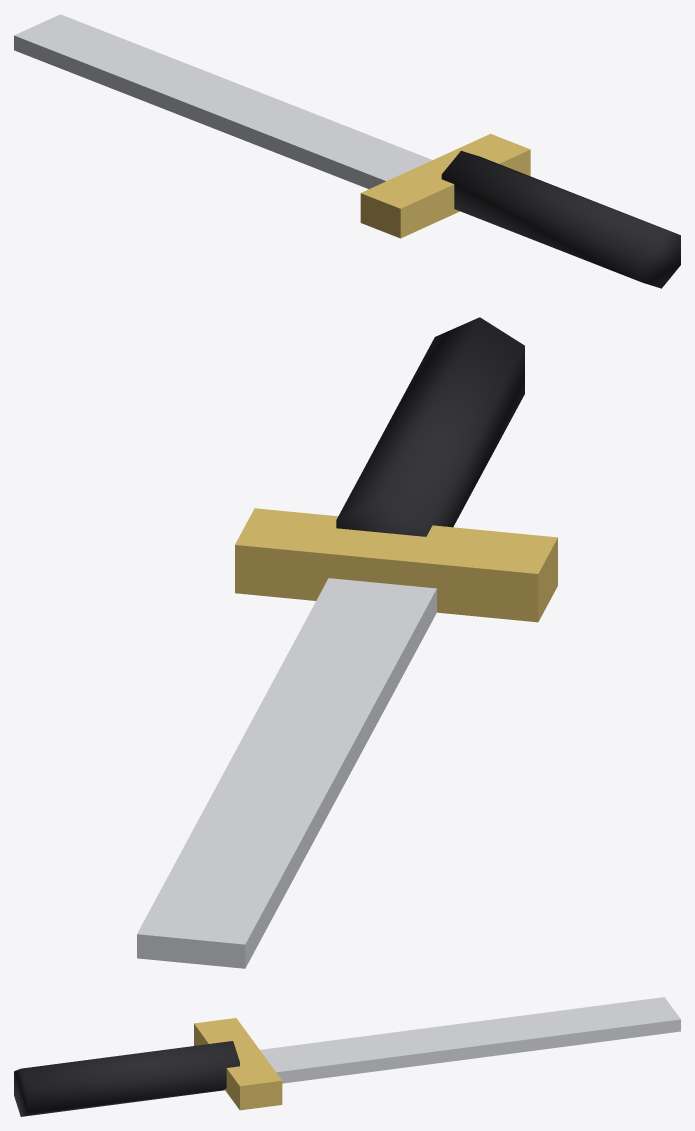
Rendered from occult_tool_ritual_dagger.glb.
3 renders of one model, top to bottom at view 1: azimuth 30°, elevation 25°; view 2: azimuth 150°, elevation 25°; view 3: azimuth 270°, elevation 25°, orthographic. The views are drawn at different scales.
Parts seen in each view (by area): view 1: GD_occult_tool_ritual_dagger__m0, GD_occult_tool_ritual_dagger__m2, GD_occult_tool_ritual_dagger__m1; view 2: GD_occult_tool_ritual_dagger__m0, GD_occult_tool_ritual_dagger__m1, GD_occult_tool_ritual_dagger__m2; view 3: GD_occult_tool_ritual_dagger__m0, GD_occult_tool_ritual_dagger__m2, GD_occult_tool_ritual_dagger__m1.
Boxes of the visible parts, x1=… form: GD_occult_tool_ritual_dagger__m0: x1=14, y1=14, x2=432, y2=188; GD_occult_tool_ritual_dagger__m2: x1=441, y1=150, x2=680, y2=288; GD_occult_tool_ritual_dagger__m1: x1=360, y1=134, x2=530, y2=238; GD_occult_tool_ritual_dagger__m0: x1=137, y1=578, x2=436, y2=968; GD_occult_tool_ritual_dagger__m1: x1=235, y1=508, x2=557, y2=622; GD_occult_tool_ritual_dagger__m2: x1=336, y1=317, x2=524, y2=536; GD_occult_tool_ritual_dagger__m0: x1=260, y1=997, x2=680, y2=1083; GD_occult_tool_ritual_dagger__m2: x1=14, y1=1041, x2=239, y2=1116; GD_occult_tool_ritual_dagger__m1: x1=194, y1=1018, x2=282, y2=1110.
Bounding box in the file's own units: 0.1162 × 0.024 × 0.3001.
